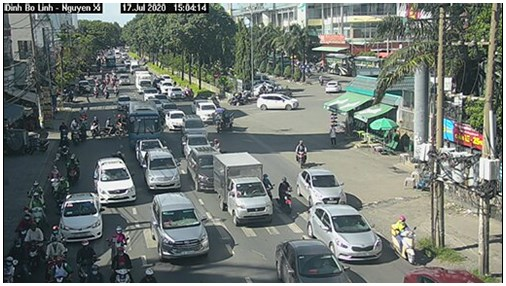xe_ba_gac: (211, 109, 237, 134)
xe_buyt: (128, 100, 163, 149)
xe_hoi: (306, 203, 383, 263), (150, 190, 211, 263), (270, 237, 353, 284), (93, 156, 137, 206), (60, 191, 102, 242), (295, 167, 350, 204), (144, 148, 182, 190), (185, 145, 216, 191), (256, 92, 300, 112), (181, 130, 206, 154), (136, 138, 167, 156), (181, 112, 206, 134), (164, 110, 182, 132), (324, 78, 341, 94)
xe_may: (389, 217, 419, 265), (43, 240, 71, 281), (72, 241, 98, 279), (23, 221, 44, 266), (108, 247, 133, 283), (26, 193, 48, 225), (15, 206, 32, 245), (108, 226, 128, 255), (257, 168, 274, 201), (277, 179, 294, 211), (3, 252, 20, 282), (54, 175, 69, 208), (46, 163, 61, 194), (25, 178, 46, 198), (294, 137, 308, 167), (66, 152, 79, 183), (56, 132, 71, 157), (69, 118, 83, 144), (55, 119, 69, 145), (90, 114, 101, 140)
